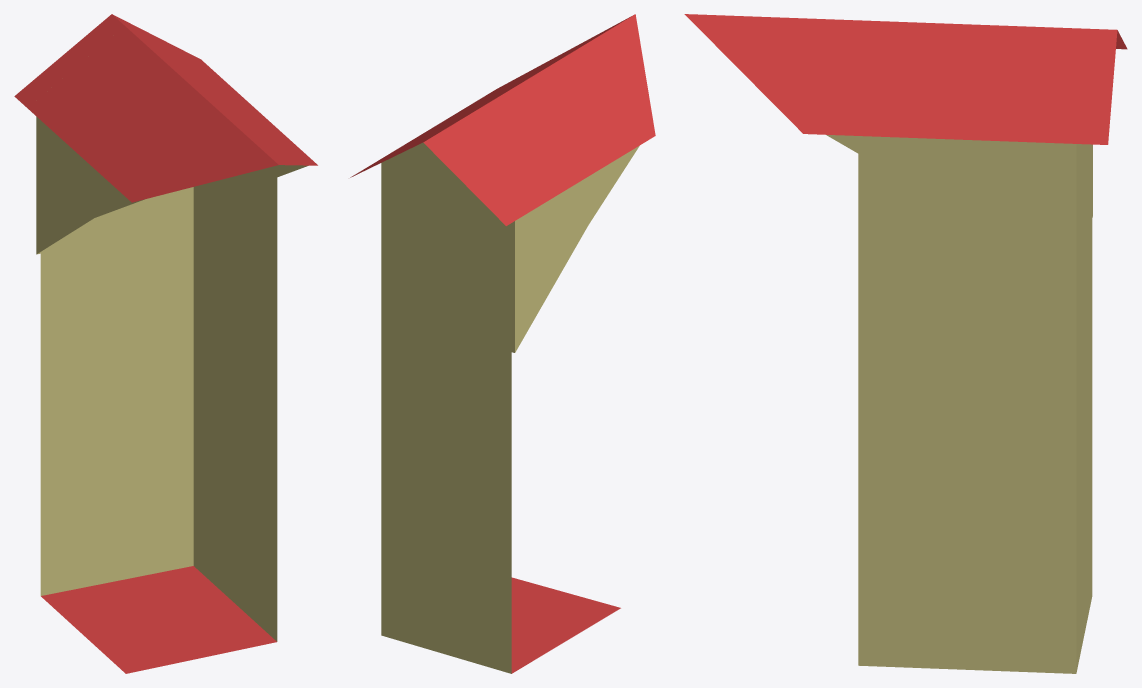
3 views of the same model, side by side, from view 1: azimuth 30°, elevation 25°; view 2: azimuth 150°, elevation 25°; view 3: azimuth 270°, elevation 25° (orthographic). The views are drawn at different scales.
Size of the model in its own units: 4.92 by 8.63 by 13.1.
